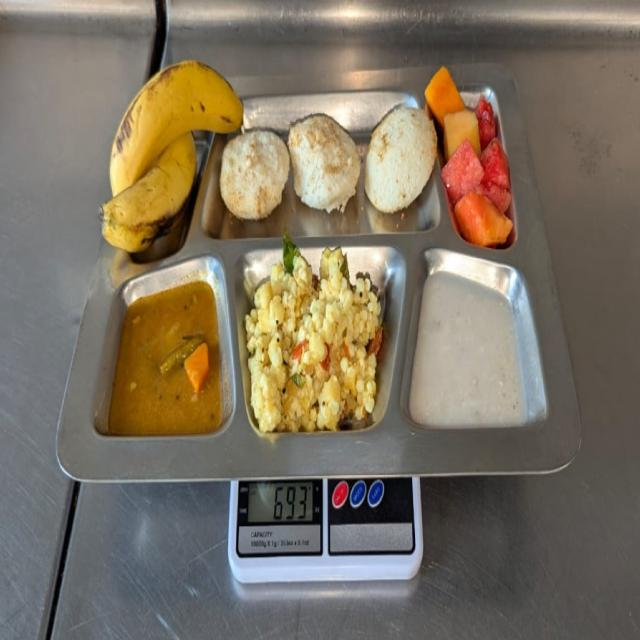Banana: (108, 61, 218, 253)
Idli: (221, 110, 435, 219)
Khichdi: (252, 265, 372, 429)
Mix Fruit: (444, 95, 507, 244)
Porridge: (421, 277, 520, 428)
Sambhar: (125, 306, 218, 435)
